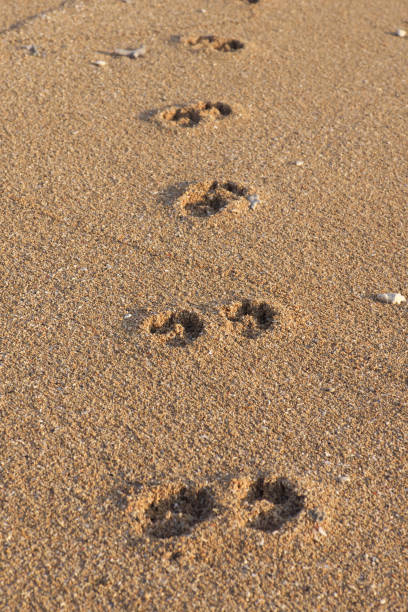animal_foot_print: (116, 472, 335, 545), (126, 484, 214, 538), (230, 475, 305, 532), (247, 477, 304, 531), (175, 180, 250, 216), (220, 299, 279, 338), (142, 309, 203, 345), (156, 102, 232, 127), (181, 35, 244, 51)
